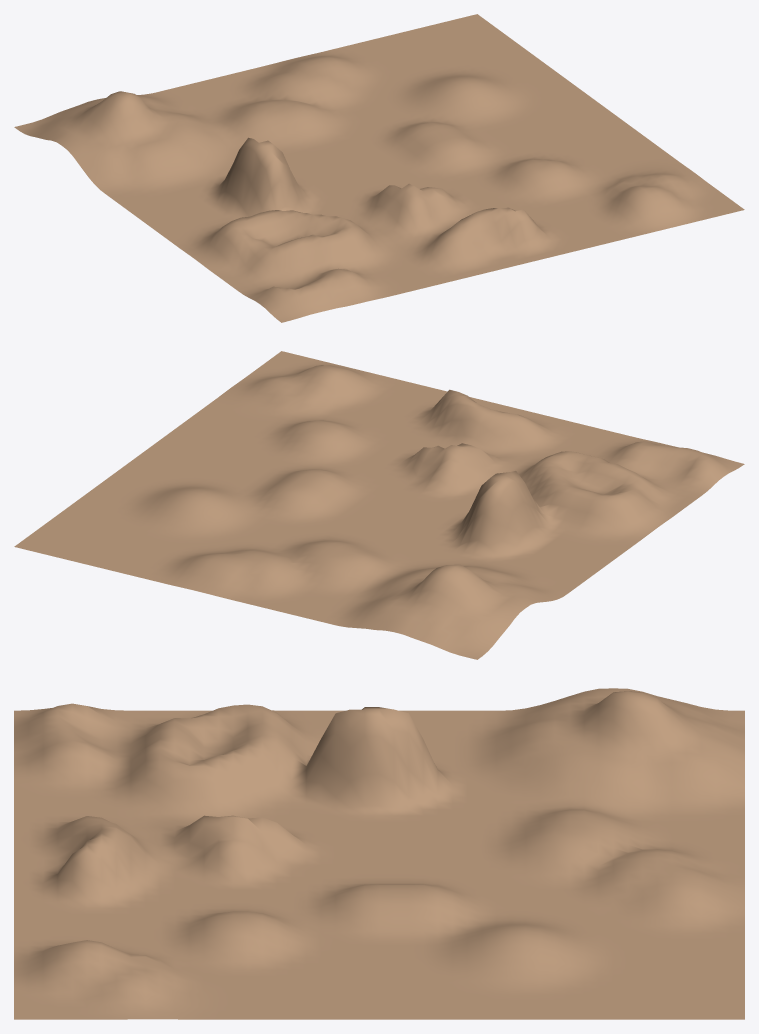
File: ground.fbx
3 renders of one model, top to bottom at view 1: azimuth 30°, elevation 25°; view 2: azimuth 150°, elevation 25°; view 3: azimuth 270°, elevation 25°, orthographic. The views are drawn at different scales.
Parts seen in each view (by area): view 1: Floor_Plan2; view 2: Floor_Plan2; view 3: Floor_Plan2.
Part boxes in pixels (<box>): Floor_Plan2: <box>14,14,744,322</box>; Floor_Plan2: <box>14,351,744,659</box>; Floor_Plan2: <box>14,688,744,1019</box>.
Size of the model in its own units: 100 by 11.42 by 100.
